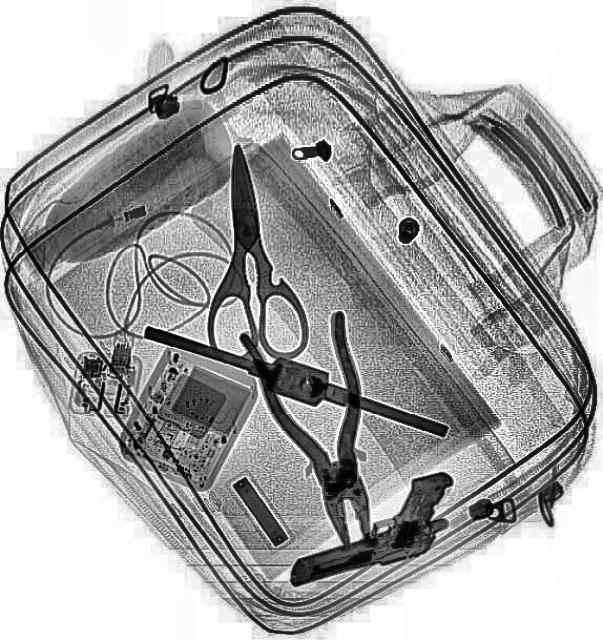Gun: (273, 470, 467, 586)
Pliers: (239, 309, 399, 559)
Scissors: (185, 140, 309, 368)
